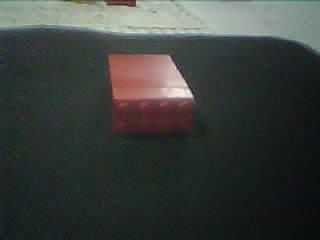lego: (105, 51, 195, 135)
